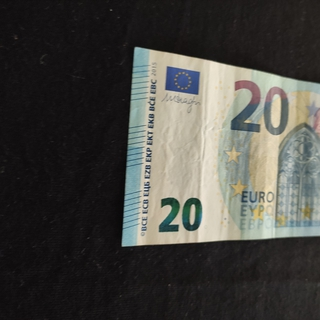20EUROFront: (121, 46, 320, 249)
